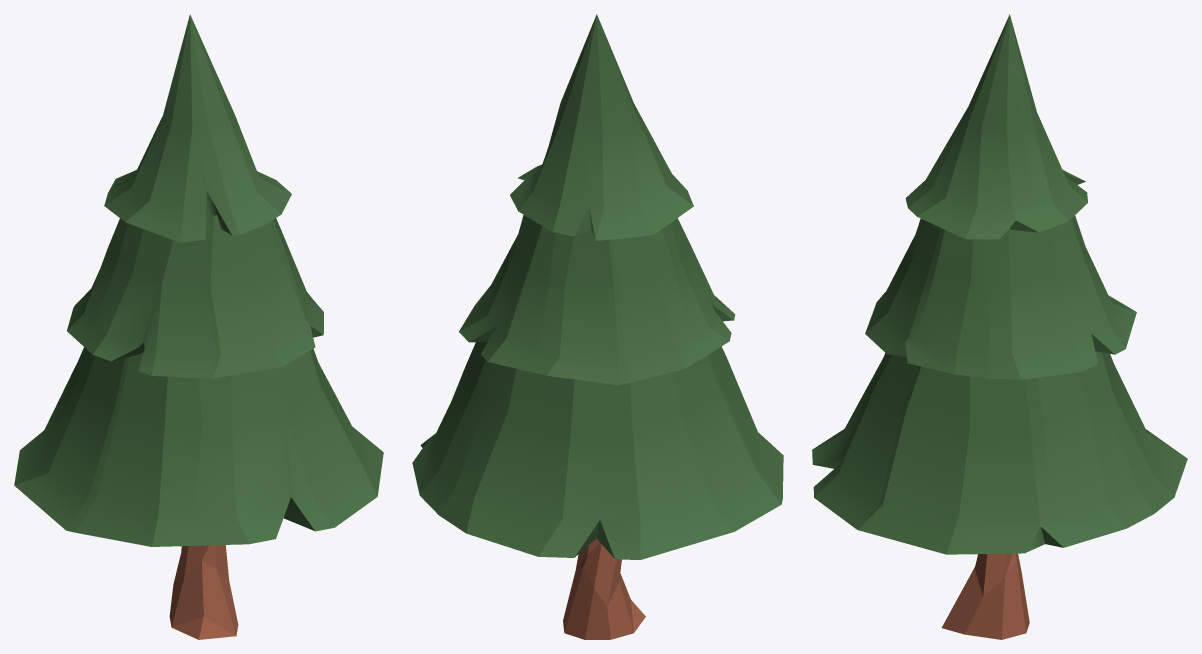
File: Tree_5_Low.fbx
3 renders of one model, left to right at view 1: azimuth 30°, elevation 25°; view 2: azimuth 150°, elevation 25°; view 3: azimuth 270°, elevation 25°, orthographic. The views are drawn at different scales.
Visible parts, largest first — view 1: Tree_5_Low; view 2: Tree_5_Low; view 3: Tree_5_Low.
Part boxes in pixels (x1,y1,x2,y2): Tree_5_Low: [14, 14, 383, 639]; Tree_5_Low: [412, 14, 783, 639]; Tree_5_Low: [812, 14, 1187, 639].
Bounding box in the file's own units: 113 × 204 × 114.
